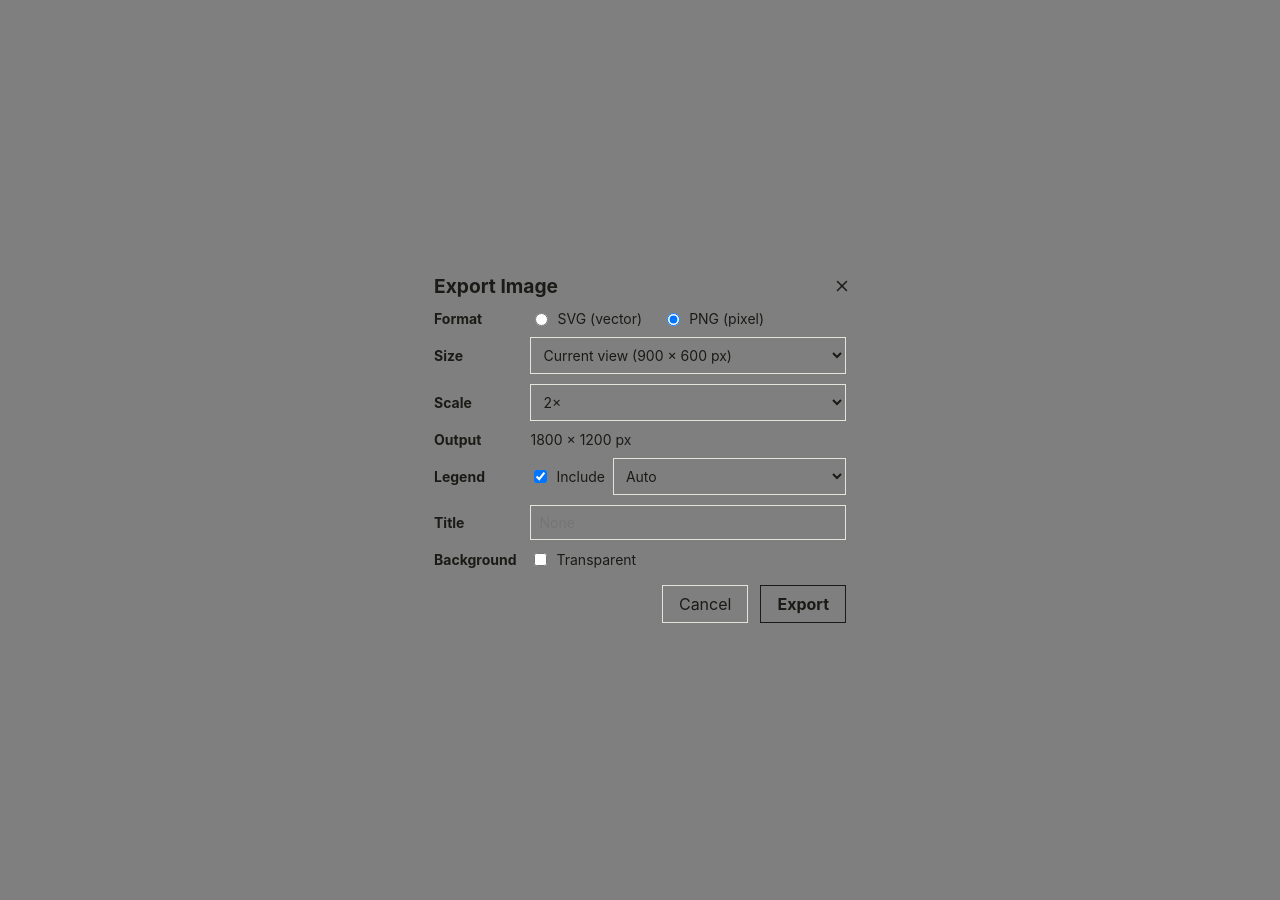
Test: ExportImageDialog › offers dpi for millimetre sizes and the scale for pixel sizes
The image size is (1280, 900).
Expected: the dropdown labelled "Scale" is shown, [530, 384, 846, 420]
Select "Journal single column (85 × 64 mm)" in the dropdown labelled "Size" at (688, 355), box [530, 336, 846, 374]
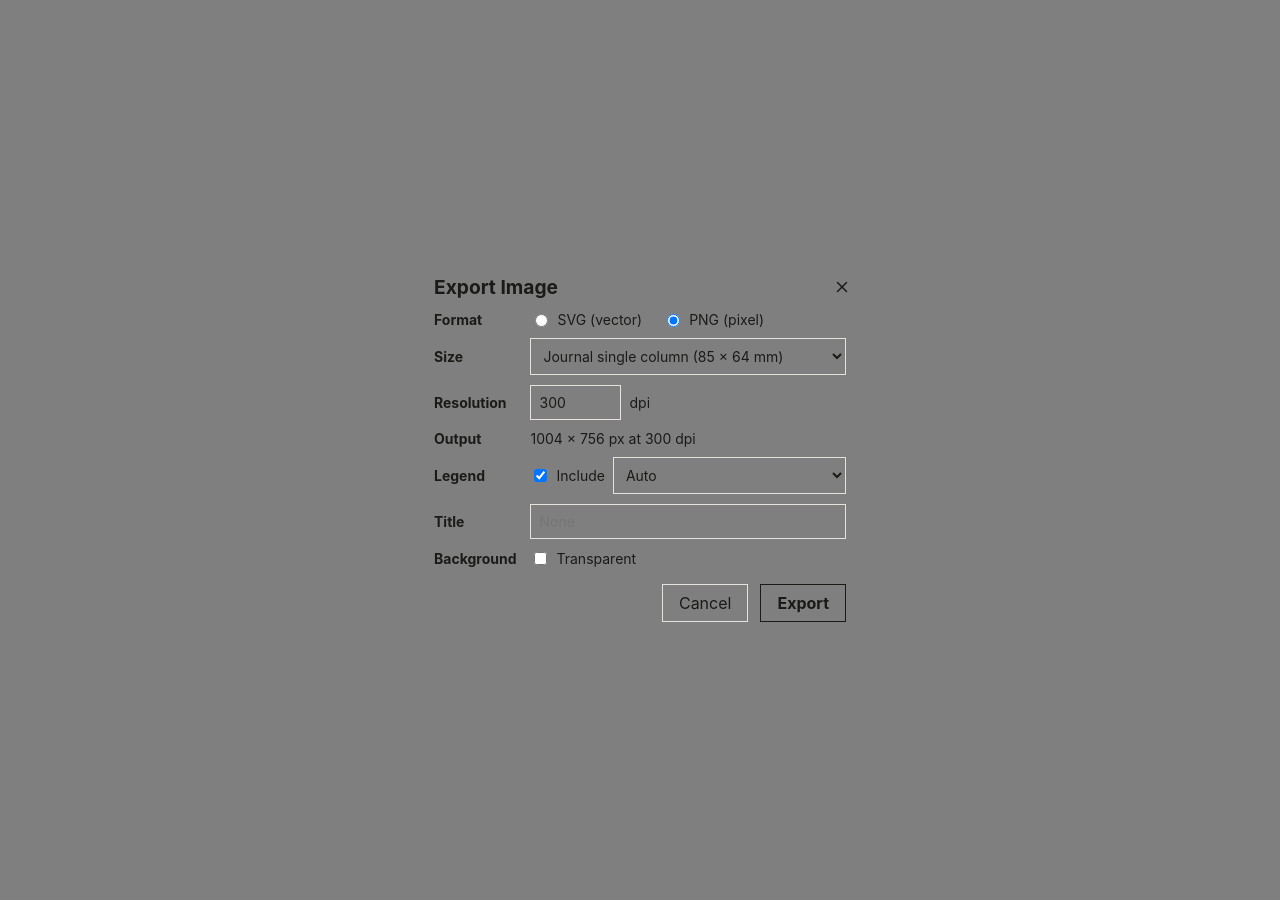
Expected: the label labelled "Scale" is gone
Expected: the number field labelled "Resolution" holds "300", [530, 384, 622, 420]
Expected: the text "1004 × 756 px at 300 dpi" is shown, [530, 430, 696, 446]
Click the radio button labelled "SVG (vector)" at (542, 320), box [536, 314, 548, 327]
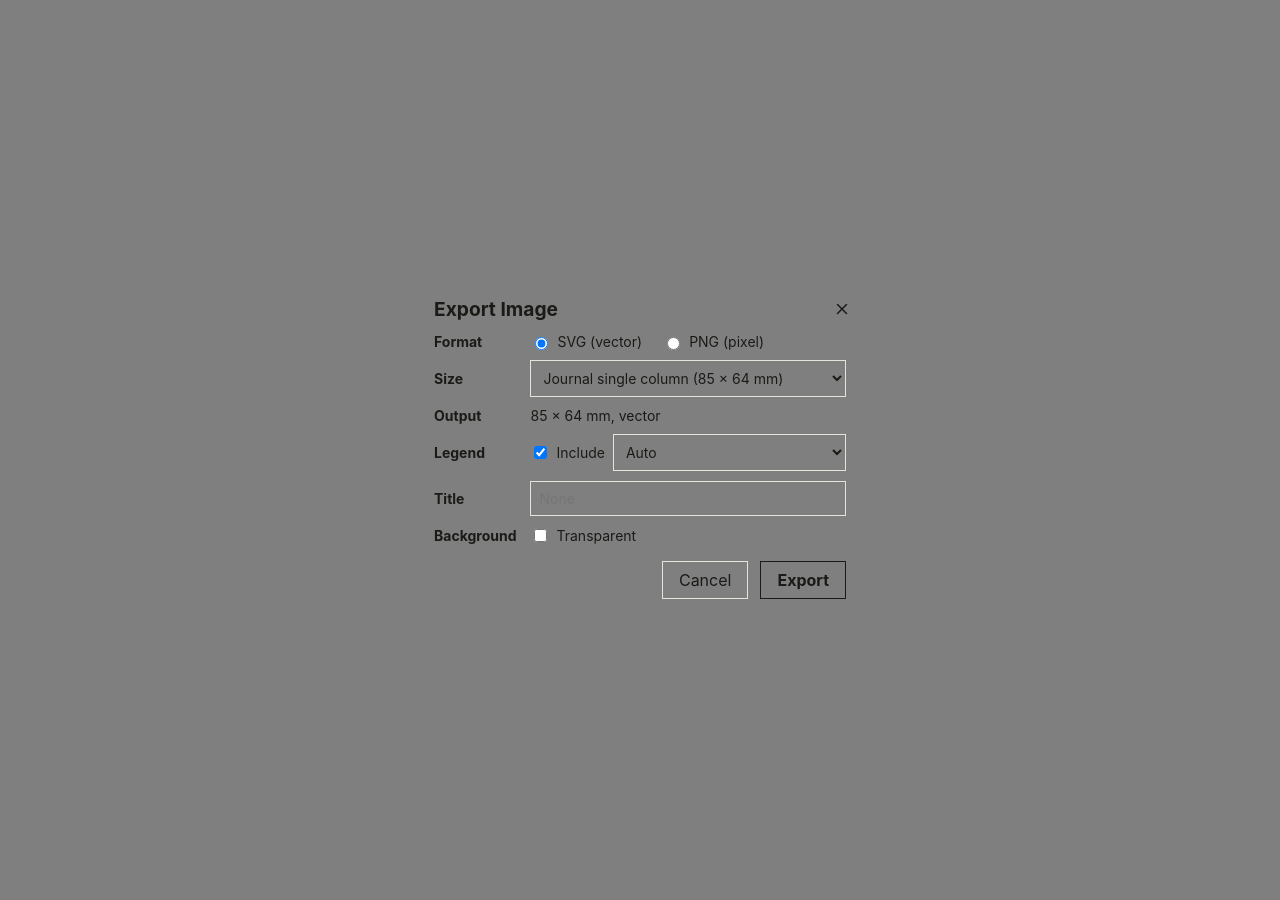
Expected: the label labelled "Resolution" is gone
Expected: the text "85 × 64 mm, vector" is shown, [530, 407, 661, 424]
